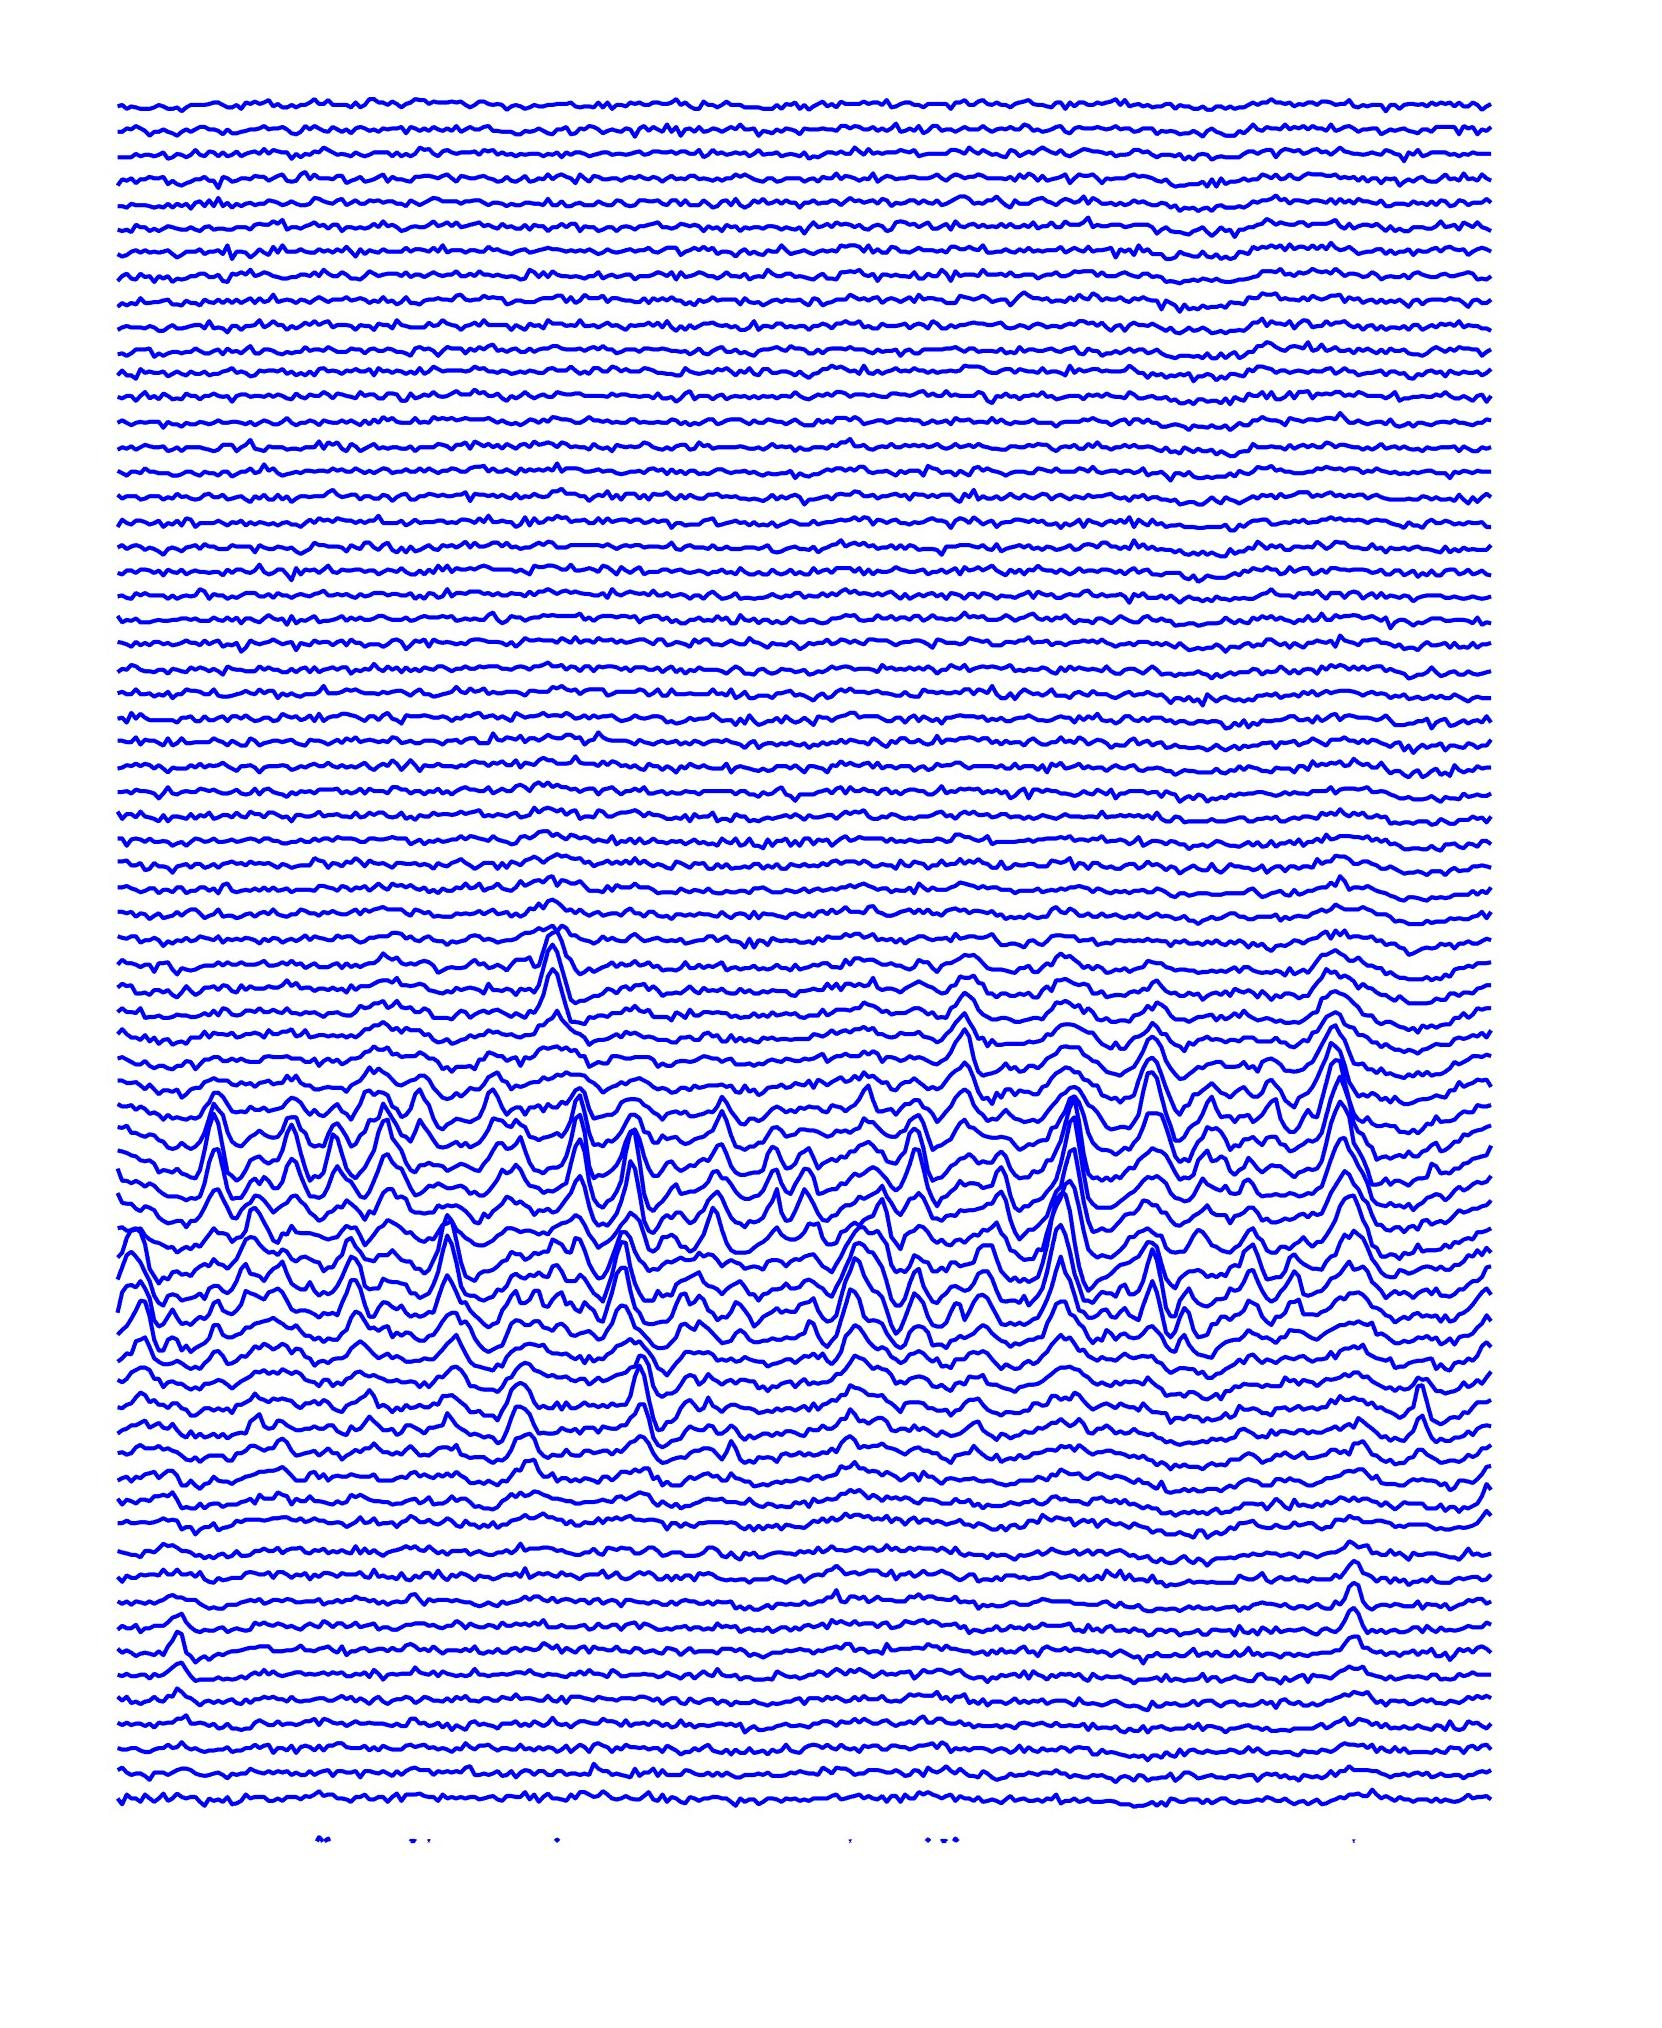defect: (195, 1085, 433, 1209), (815, 1225, 1010, 1366), (1307, 1027, 1388, 1300), (1027, 1066, 1106, 1337), (700, 1098, 832, 1253), (485, 1241, 557, 1494), (606, 1240, 685, 1465), (556, 1076, 662, 1233), (312, 1219, 402, 1386), (1135, 1022, 1226, 1159), (113, 1198, 178, 1385), (1137, 1235, 1217, 1383), (852, 1091, 948, 1214), (524, 918, 598, 1061), (1384, 1344, 1450, 1494), (941, 980, 992, 1150), (227, 1211, 300, 1300), (419, 1218, 461, 1358), (146, 1587, 195, 1703), (1345, 1536, 1374, 1664)
